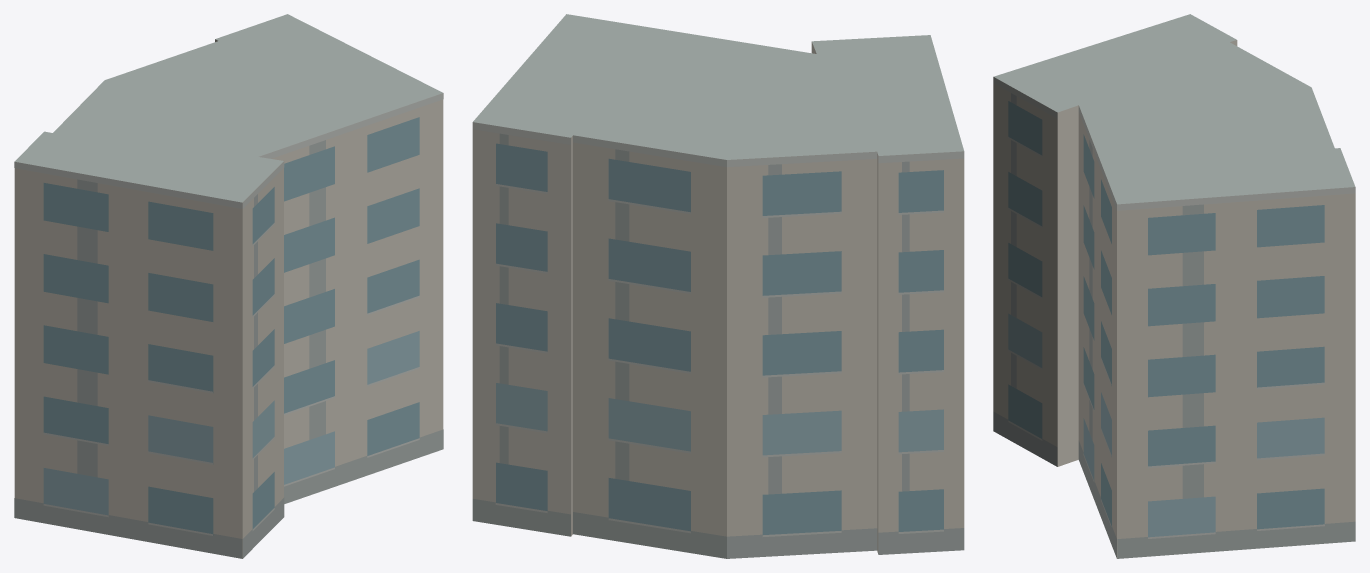
Rendered from survey-upis-32910012.glb.
3 views of the same model, side by side, from view 1: azimuth 30°, elevation 25°; view 2: azimuth 150°, elevation 25°; view 3: azimuth 270°, elevation 25° (orthographic). The views are drawn at different scales.
Visible parts, largest first — view 1: survey-upis-32910012.tmp; view 2: survey-upis-32910012.tmp; view 3: survey-upis-32910012.tmp.
Part boxes in pixels (<box>): survey-upis-32910012.tmp: <box>14,14,443,558</box>; survey-upis-32910012.tmp: <box>472,14,964,558</box>; survey-upis-32910012.tmp: <box>993,14,1355,558</box>.
Bounding box in the file's own units: 15.56 × 13.5 × 12.51.
